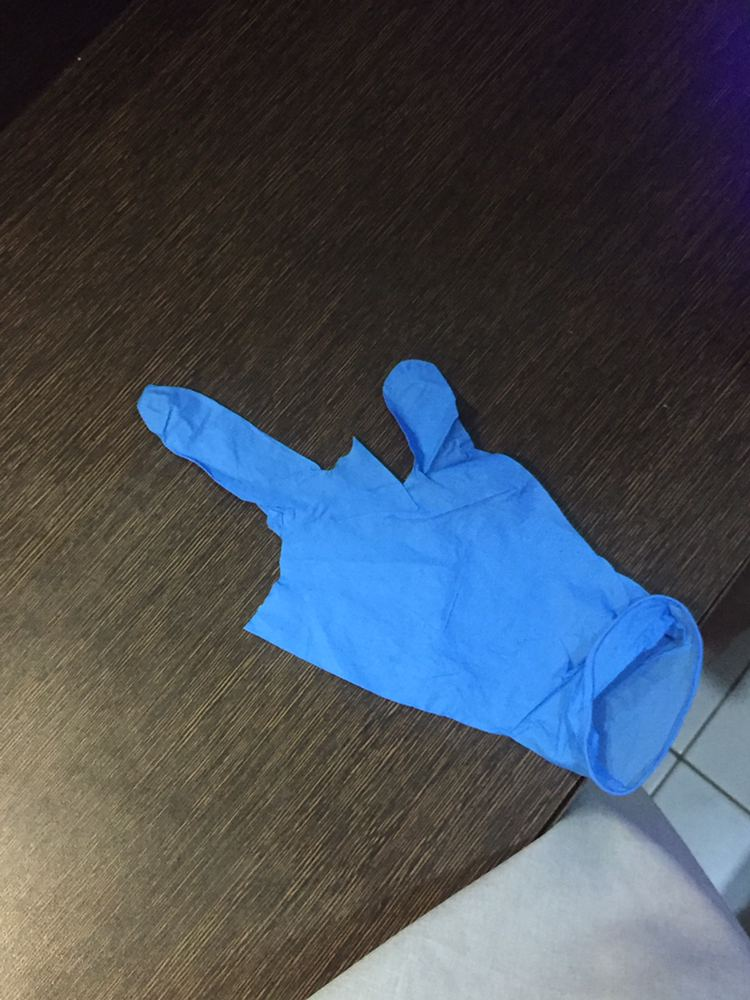defected: (104, 333, 720, 812)
